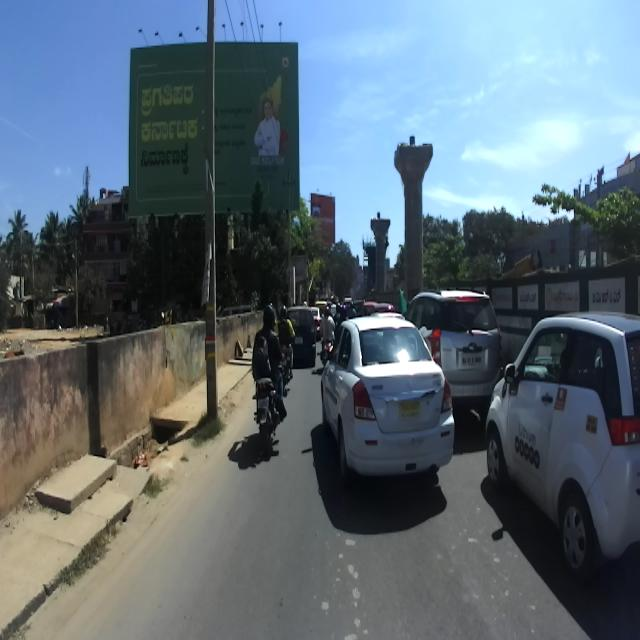car ahead at: (491, 310, 640, 555), (320, 317, 457, 477)
